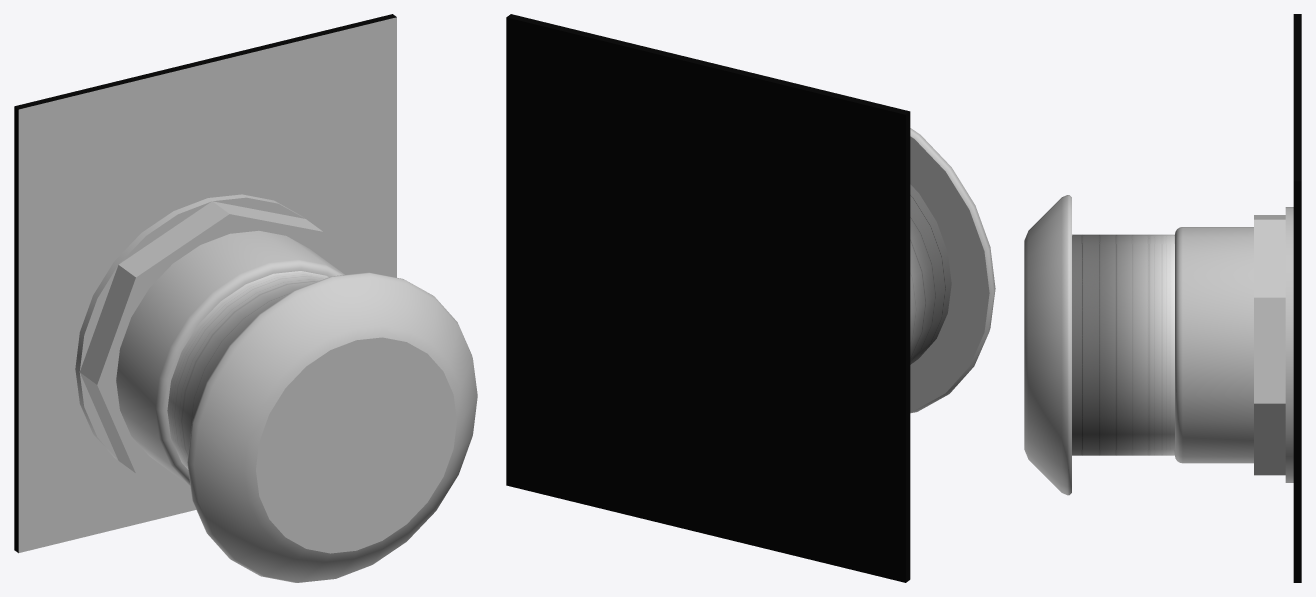
The model's file is estop_button.dae.
The picture shows the model from 3 angles, left to right: view 1: azimuth 30°, elevation 25°; view 2: azimuth 150°, elevation 25°; view 3: azimuth 270°, elevation 25°; orthographic projection. The views are drawn at different scales.
Visible parts, largest first — view 1: placard (×2), estop_button (×3), housing_nut, estop_housing; view 2: placard, estop_button (×2); view 3: estop_button (×2), estop_housing, housing_nut, placard.
Boxes of the visible parts, x1,y1,x2,y2 form: placard (×2): (14, 14, 396, 552); estop_button (×3): (167, 271, 477, 582); housing_nut: (75, 194, 340, 482); estop_housing: (116, 230, 344, 485); placard: (506, 14, 910, 582); estop_button (×2): (910, 128, 995, 413); estop_button (×2): (1024, 195, 1174, 495); estop_housing: (1175, 227, 1253, 463); housing_nut: (1254, 207, 1293, 482); placard: (1293, 14, 1301, 582).
Bounding box in the file's own units: 1.97 × 1.38 × 2.2.
